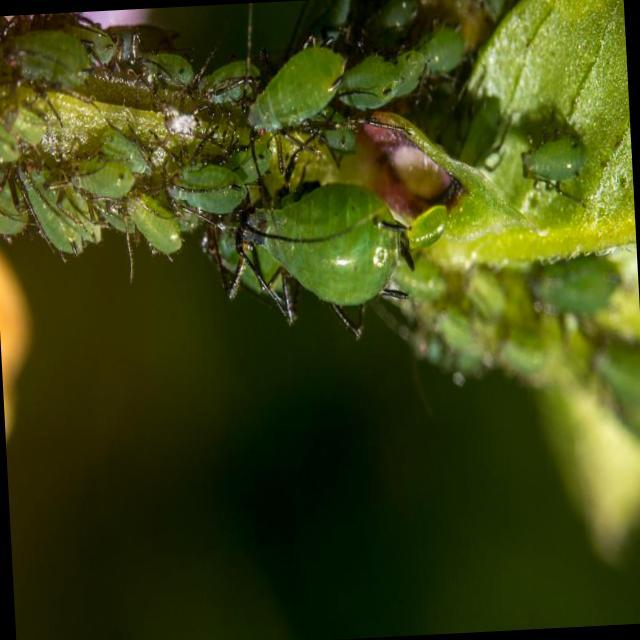aphid: (206, 148, 460, 332), (234, 28, 358, 162), (505, 114, 607, 210), (142, 148, 252, 222), (0, 20, 103, 97), (20, 158, 90, 268), (116, 185, 188, 268), (327, 50, 401, 115), (69, 129, 140, 195), (132, 35, 201, 88)
